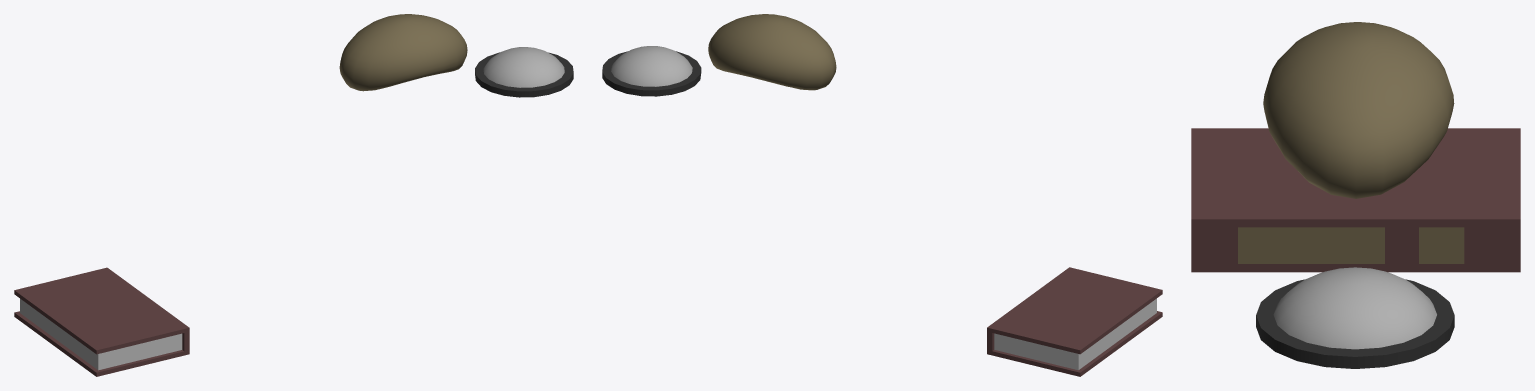
File: items.fbx
The picture shows the model from 3 angles, left to right: view 1: azimuth 30°, elevation 25°; view 2: azimuth 150°, elevation 25°; view 3: azimuth 270°, elevation 25°; orthographic projection. The views are drawn at different scales.
Parts seen in each view (by area): view 1: pCube27, pSphere2, pSphere1, pCylinder8; view 2: pCube27, pSphere2, pSphere1, pCylinder8; view 3: pCube27, pSphere2, pSphere1, pCylinder8.
Part boxes in pixels (box(x1,y1,x2,y2)): pCube27: box(14, 267, 189, 376); pSphere2: box(339, 14, 467, 91); pSphere1: box(483, 47, 564, 87); pCylinder8: box(475, 52, 573, 97); pCube27: box(987, 267, 1162, 376); pSphere2: box(708, 14, 836, 90); pSphere1: box(611, 46, 692, 86); pCylinder8: box(602, 51, 701, 96); pCube27: box(1191, 128, 1520, 272); pSphere2: box(1263, 22, 1454, 198); pSphere1: box(1273, 267, 1436, 349); pCylinder8: box(1256, 279, 1454, 368).
Bounding box in the file's own units: 13.49 × 6.09 × 3.75.
